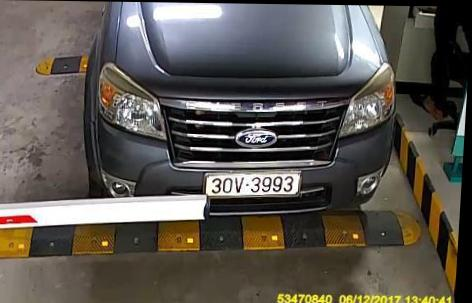License_Plate: (202, 167, 303, 202)
